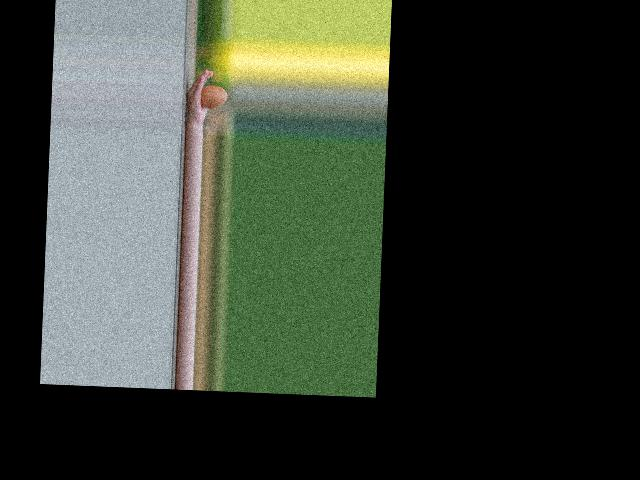egg: (200, 85, 227, 110)
